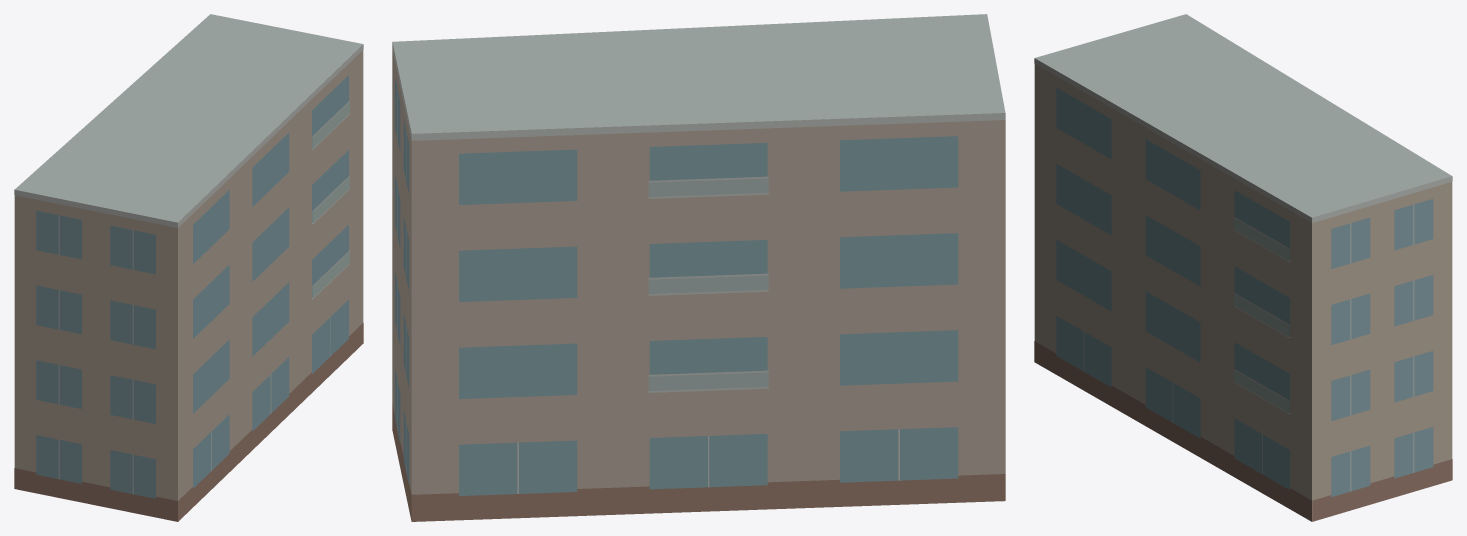
Rendered from survey-upis-32999812.glb.
3 views of the same model, side by side, from view 1: azimuth 30°, elevation 25°; view 2: azimuth 150°, elevation 25°; view 3: azimuth 270°, elevation 25° (orthographic). The views are drawn at different scales.
Visible parts, largest first — view 1: survey-upis-32999812.tmp; view 2: survey-upis-32999812.tmp; view 3: survey-upis-32999812.tmp.
Part boxes in pixels (left/top/right/bottom): survey-upis-32999812.tmp: left=14, top=14, right=363, bottom=521; survey-upis-32999812.tmp: left=392, top=14, right=1005, bottom=521; survey-upis-32999812.tmp: left=1034, top=14, right=1452, bottom=521.
Bounding box in the file's own units: 19.41 × 13.5 × 16.83.
